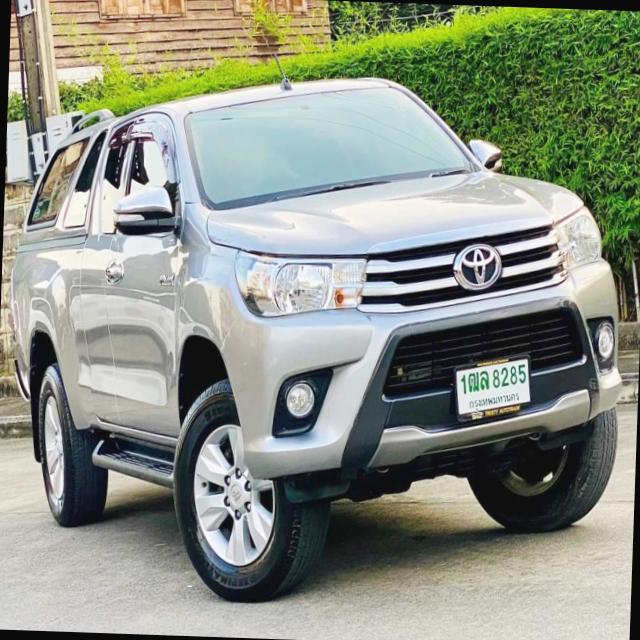license_plate: (448, 350, 537, 427)
